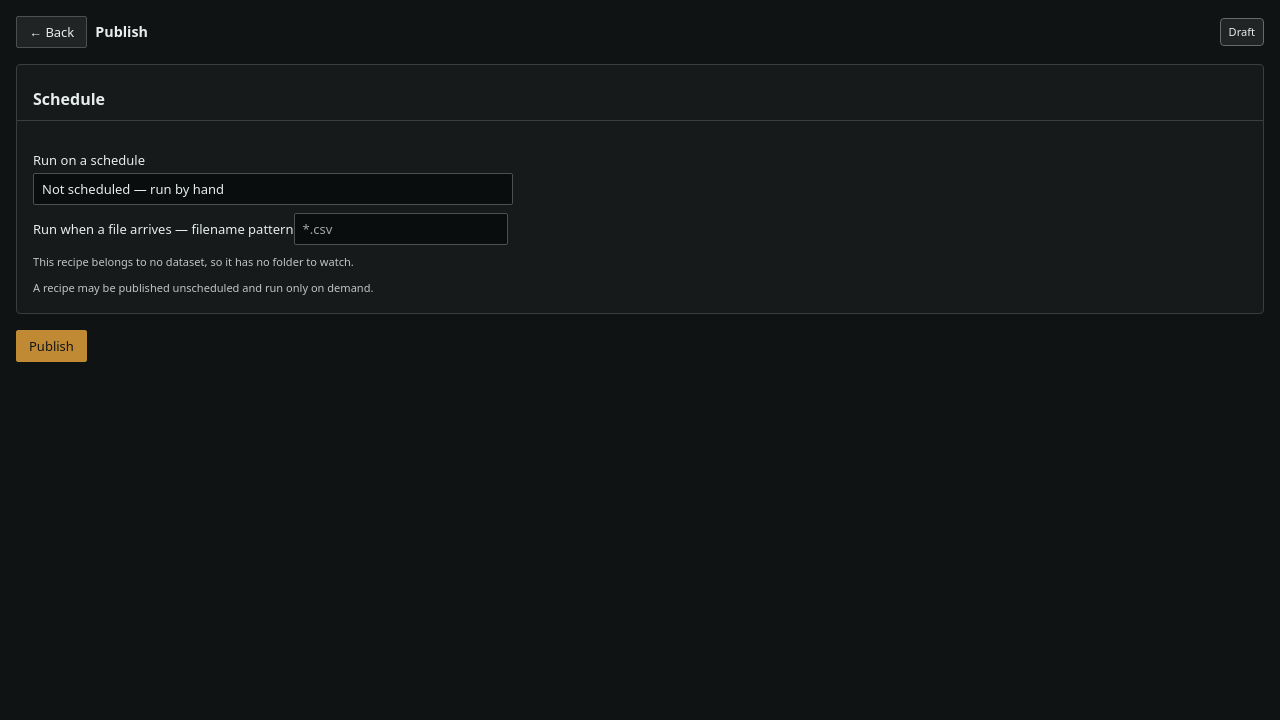
Test: the structured schedule › says, in the Conduit's words, a schedule it could not keep
Select "Advanced (cron expression)" in the dropdown named "How often": (273, 188) [33,172,513,204]
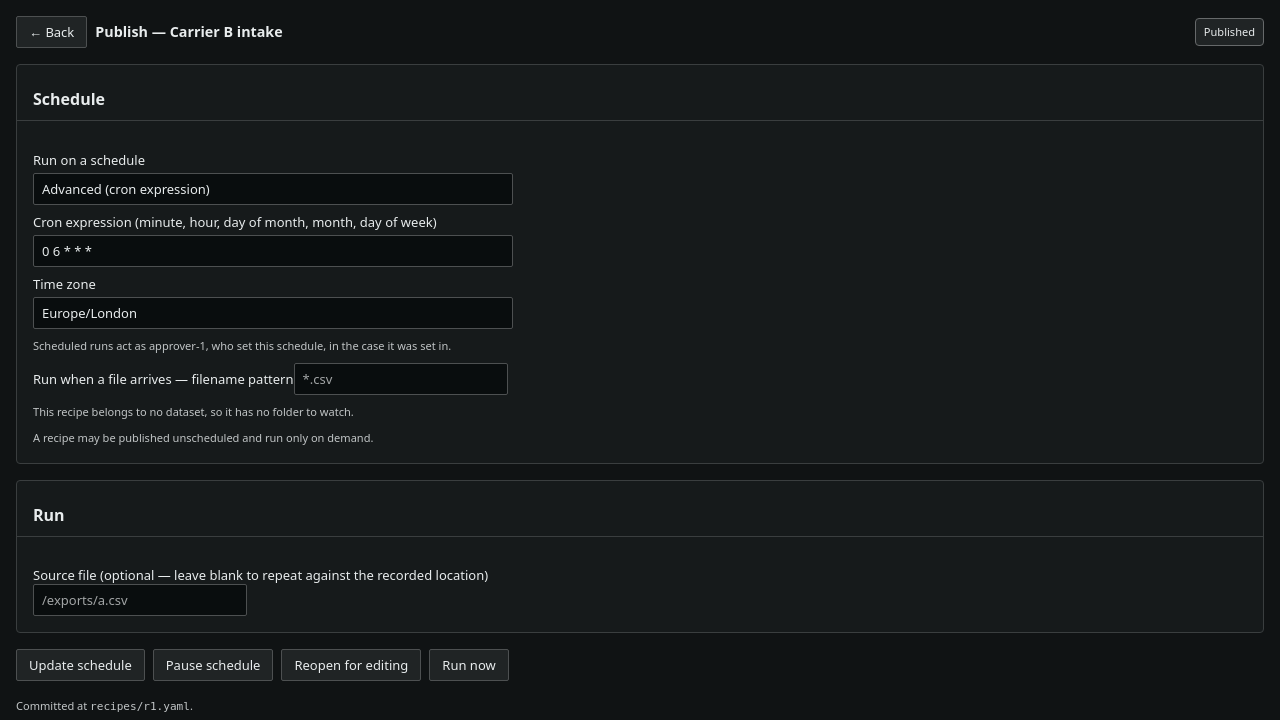
Replace the text in the field labelled "Cron expression" with "*/5 * * * *": (273, 250) [33,234,513,266]
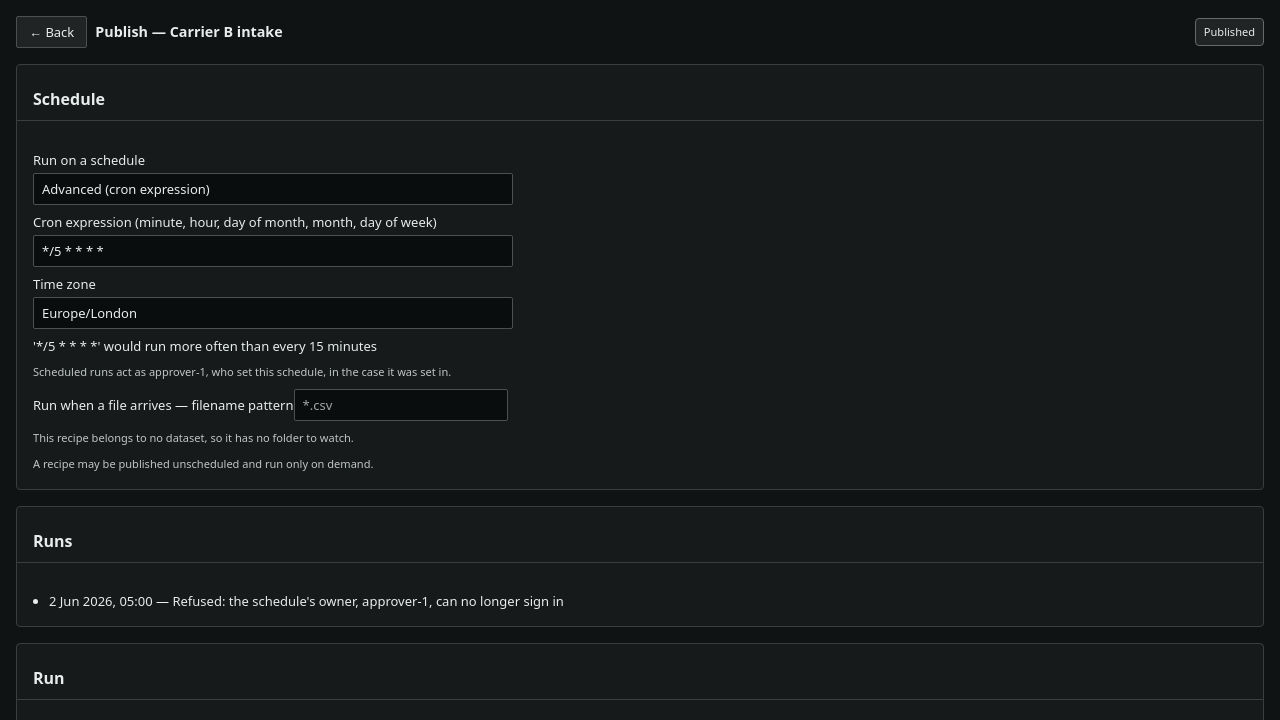
Now the message shows "more often than every 15 minutes", box [33,336,377,354]
